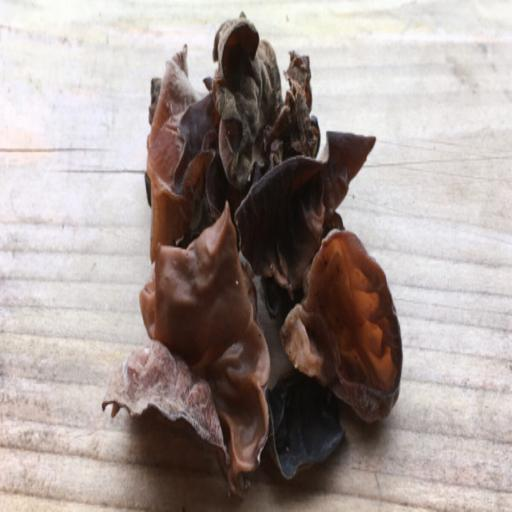mushroom: (111, 2, 413, 482)
